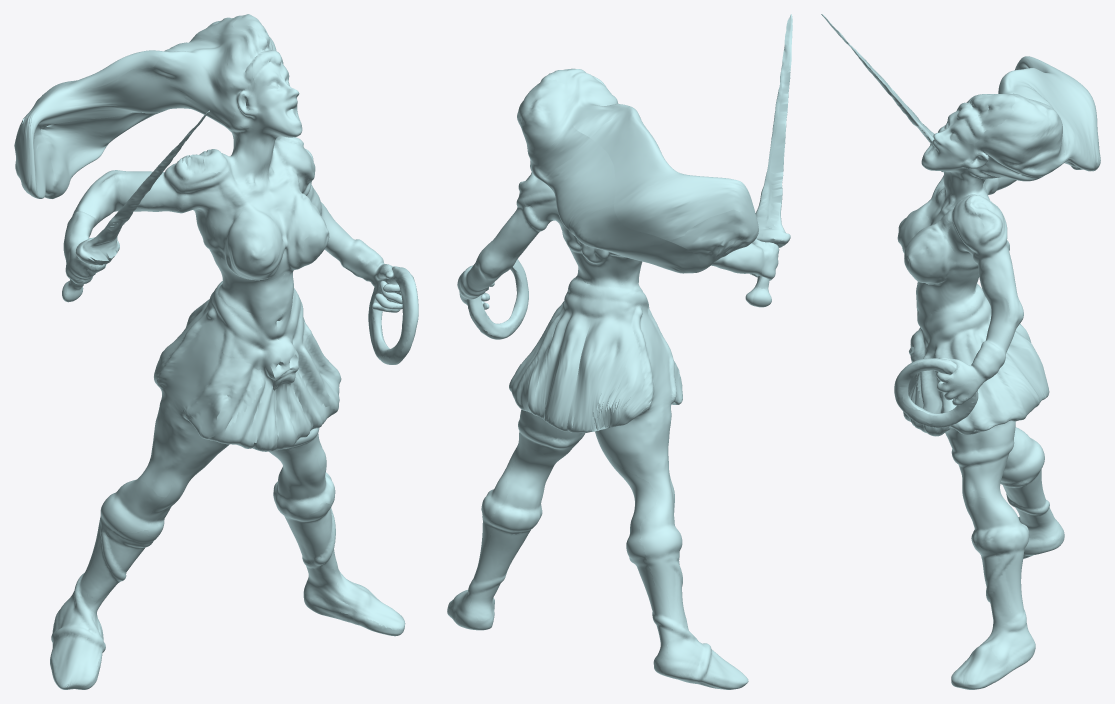
The picture shows the model from 3 angles, left to right: view 1: azimuth 30°, elevation 25°; view 2: azimuth 150°, elevation 25°; view 3: azimuth 270°, elevation 25°; orthographic projection. The views are drawn at different scales.
Parts seen in each view (by area): view 1: split_parent_0; view 2: split_parent_0; view 3: split_parent_0.
Boxes of the visible parts, x1,y1,x2,y2 form: split_parent_0: (14, 14, 418, 689); split_parent_0: (447, 14, 792, 689); split_parent_0: (821, 14, 1100, 689).
Bounding box in the file's own units: 0.571 × 1 × 0.4514.
